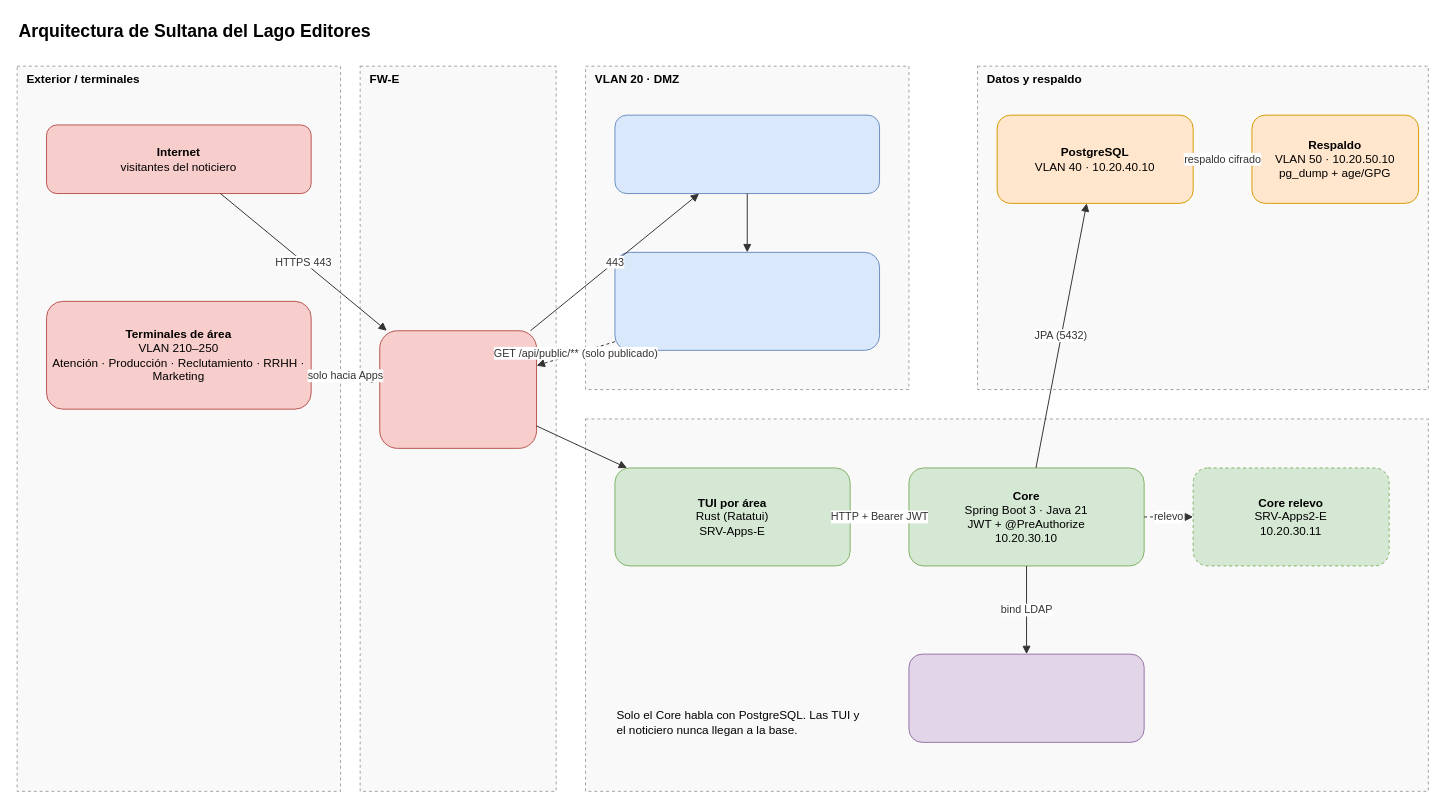
The diagram is 1446 pixels wide and 809 high, and some of its shapes have lost their labels. The box of each missing label's shape, as (x1, y1, x2, y2) in pixels:
FW-E nftables política DROP + log: (379, 330, 537, 448)
NGINX TLS 1.2/1.3 · HSTS · limit_req: (614, 114, 880, 194)
Noticiero React + Vite 10.20.20.10: (614, 251, 880, 350)
OpenLDAP usuarios y grupos por área: (908, 653, 1144, 742)
VLAN 30 · Aplicaciones: (585, 418, 1428, 791)
